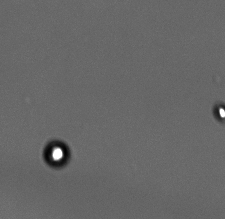Living Cell: (42, 138, 72, 169)
